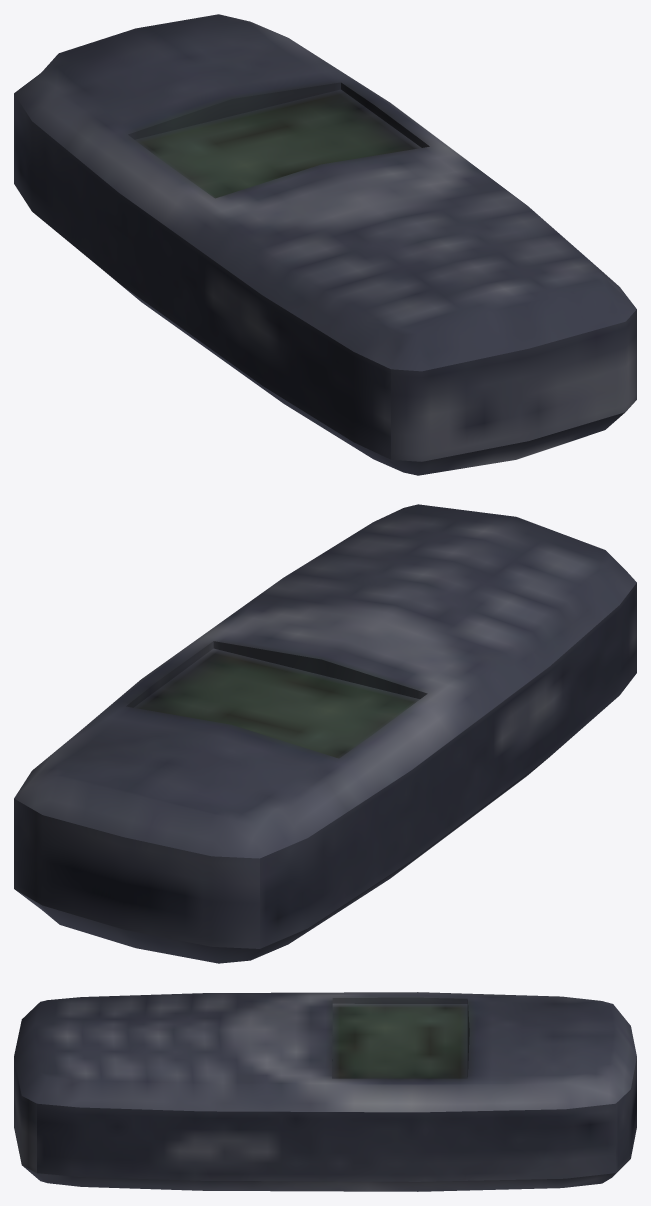
File: cell_phone_2.obj
3 renders of one model, top to bottom at view 1: azimuth 30°, elevation 25°; view 2: azimuth 150°, elevation 25°; view 3: azimuth 270°, elevation 25°, orthographic. The views are drawn at different scales.
Parts seen in each view (by area): view 1: cell_phone_2; view 2: cell_phone_2; view 3: cell_phone_2.
Part boxes in pixels (x1,y1,x2,y2): cell_phone_2: (14, 14, 636, 475); cell_phone_2: (14, 504, 636, 963); cell_phone_2: (14, 992, 636, 1191).
Bounding box in the file's own units: 0.0877 × 0.0437 × 0.2106.
